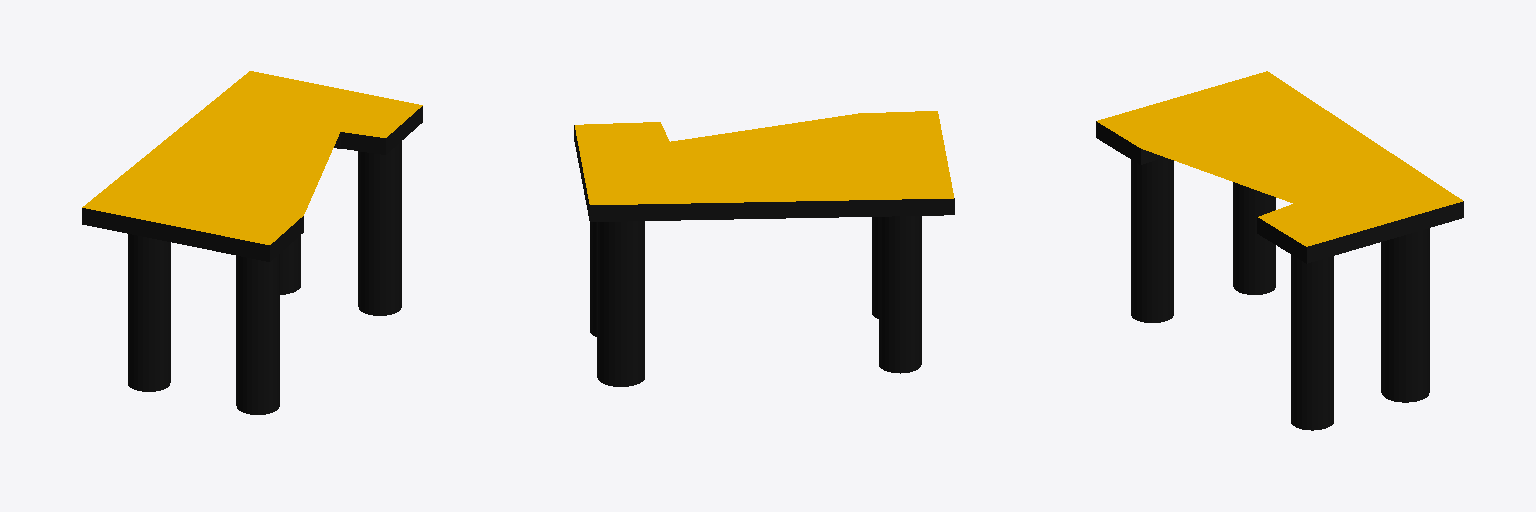
File: table.obj
3 renders of one model, left to right at view 1: azimuth 30°, elevation 25°; view 2: azimuth 150°, elevation 25°; view 3: azimuth 270°, elevation 25°, orthographic.
Parts seen in each view (by area): view 1: Mesh1 Model; view 2: Mesh1 Model; view 3: Mesh1 Model.
Boxes of the visible parts, <box> form: Mesh1 Model: <box>82,71,422,414</box>; Mesh1 Model: <box>574,111,954,386</box>; Mesh1 Model: <box>1096,71,1463,430</box>.
Size of the model in its own units: 56776596 by 29161500 by 50201696.